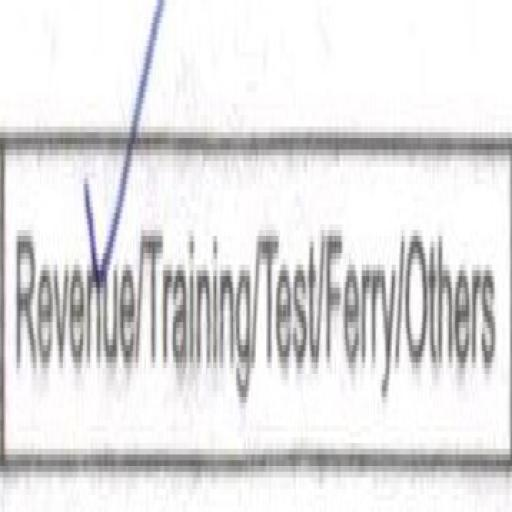check: (3, 28, 140, 479)
